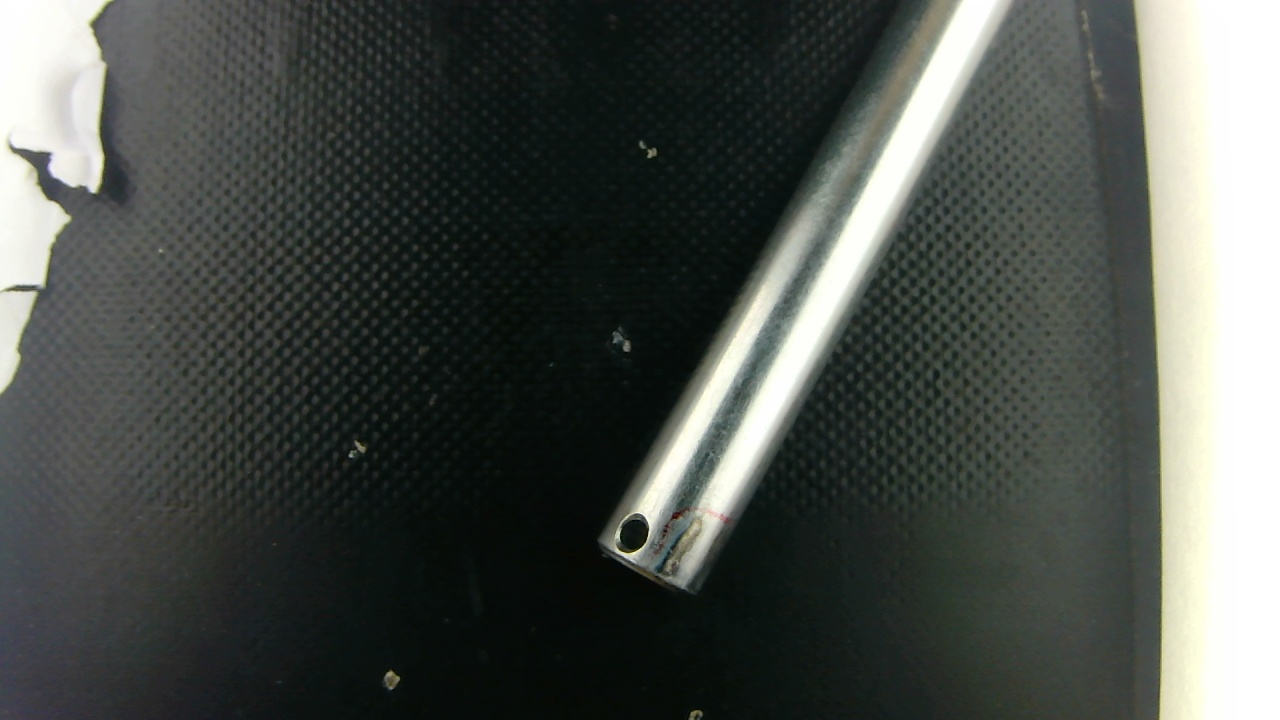black patch_pin: (658, 505, 712, 580)
